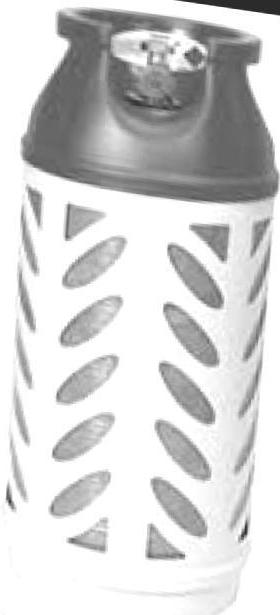cylinder: (1, 0, 280, 615)
